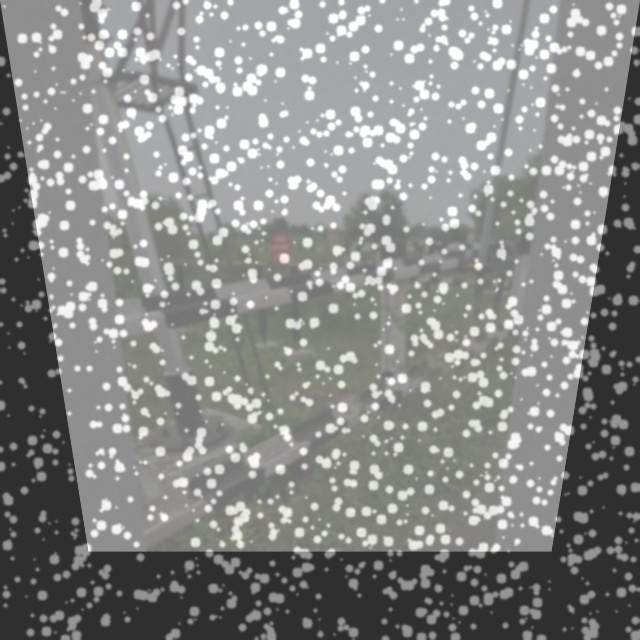Stop: (269, 231, 292, 263)
